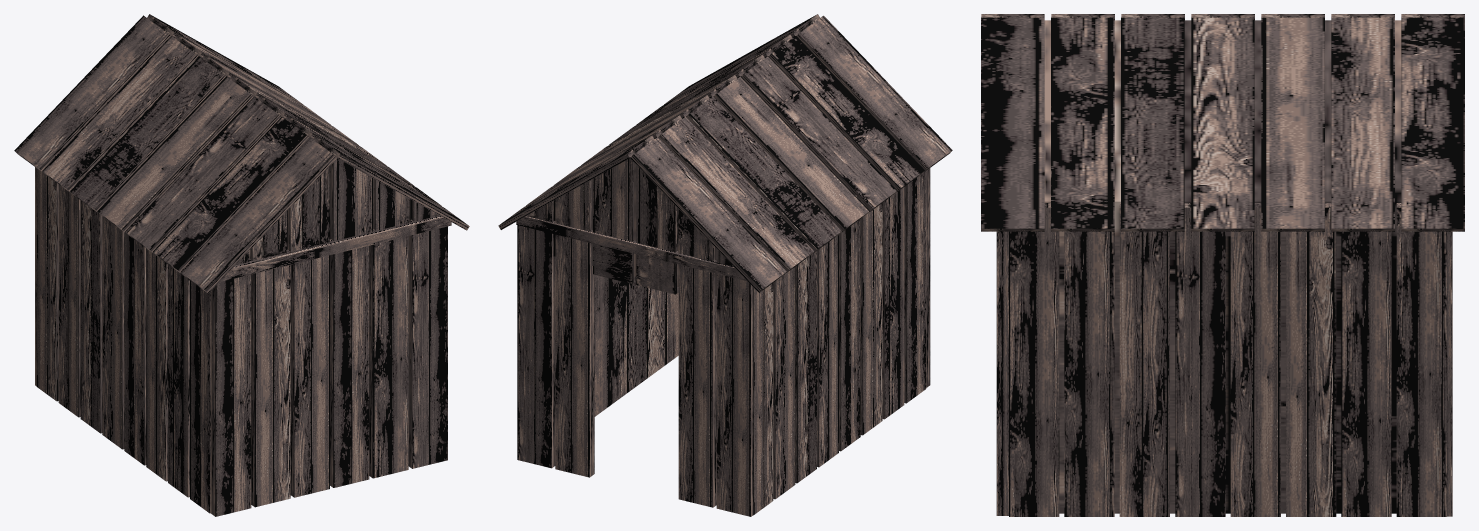
File: Shed.fbx
The picture shows the model from 3 angles, left to right: view 1: azimuth 30°, elevation 25°; view 2: azimuth 150°, elevation 25°; view 3: azimuth 270°, elevation 25°; orthographic projection. The views are drawn at different scales.
Visible parts, largest first — view 1: Cube.015; view 2: Cube.015; view 3: Cube.015.
Boxes of the visible parts, x1,y1,x2,y2 form: Cube.015: (14,14,469,516); Cube.015: (498,14,952,516); Cube.015: (981,14,1464,516).
Bounding box in the file's own units: 2.24 × 2.75 × 2.81.
1 material, 1 textured.
